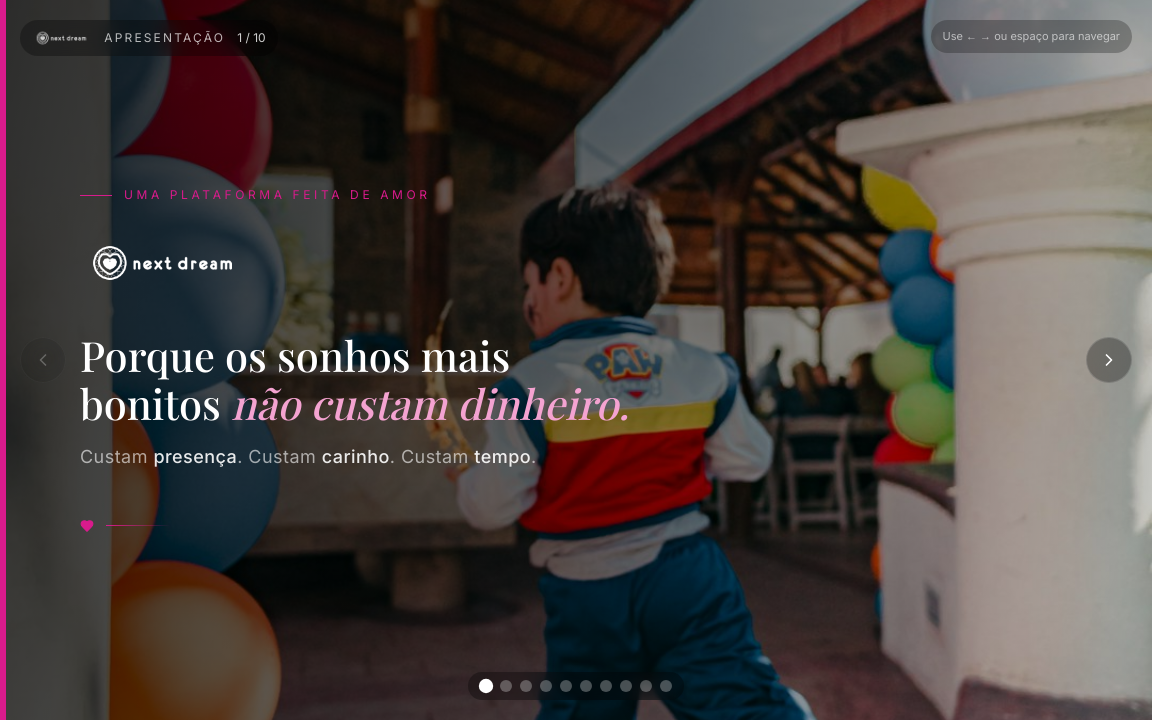
Presentation immersive navigation › updates slide counter from overlay controls and keyboard
Expected: the text "1 / 10" is shown, left=237, top=30, right=266, bottom=46
Click the button named "Próximo slide". click: x=1109, y=360
box: left=1086, top=337, right=1132, bottom=383
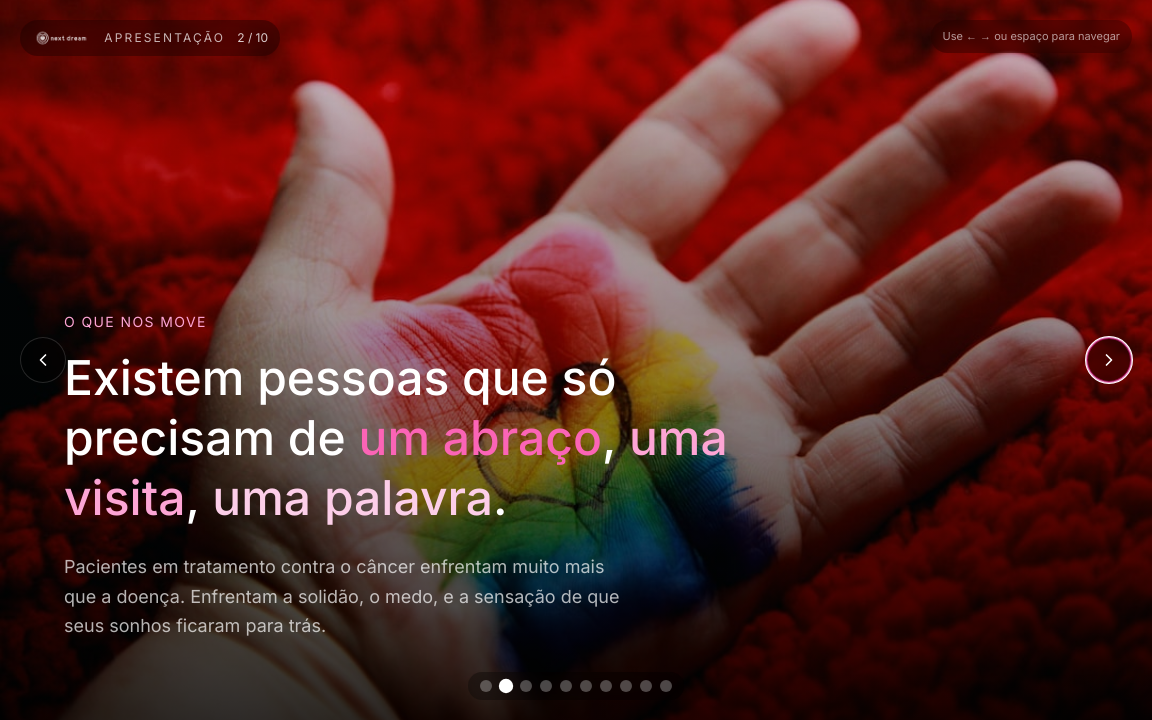
Expected: the text "2 / 10" is shown, left=237, top=30, right=268, bottom=46
Press ArrowRight
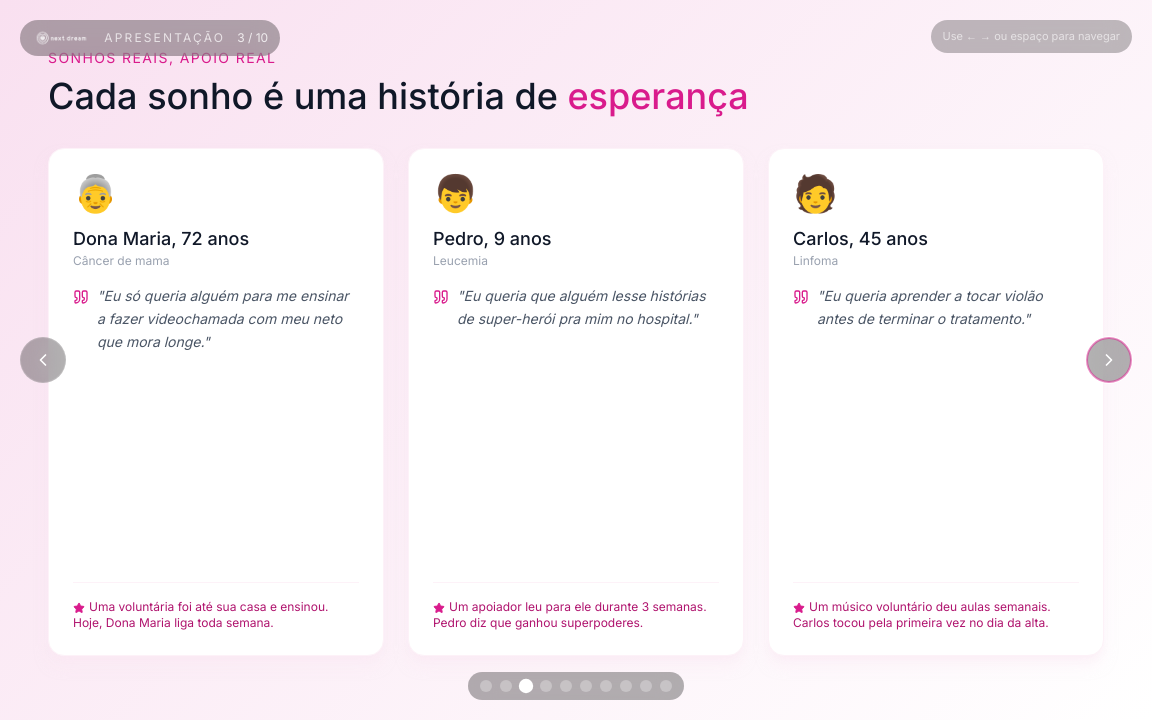
Expected: the text "3 / 10" is shown, left=237, top=30, right=268, bottom=46
Click the button named "Slide 1". click: x=486, y=686
box: left=480, top=680, right=492, bottom=692
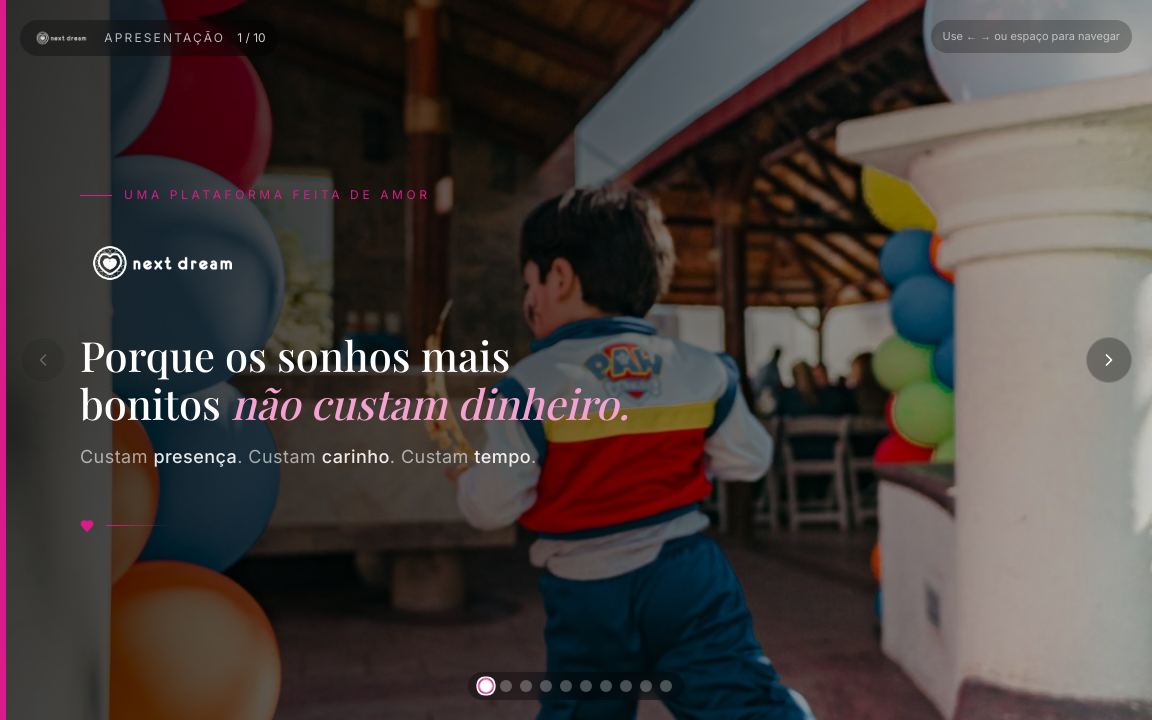
Expected: the text "1 / 10" is shown, left=237, top=30, right=266, bottom=46
